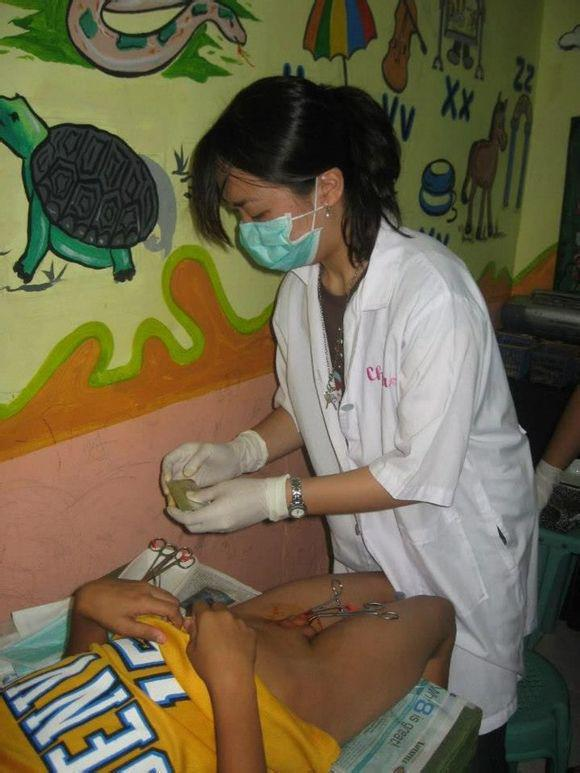OK: (228, 174, 332, 278)
